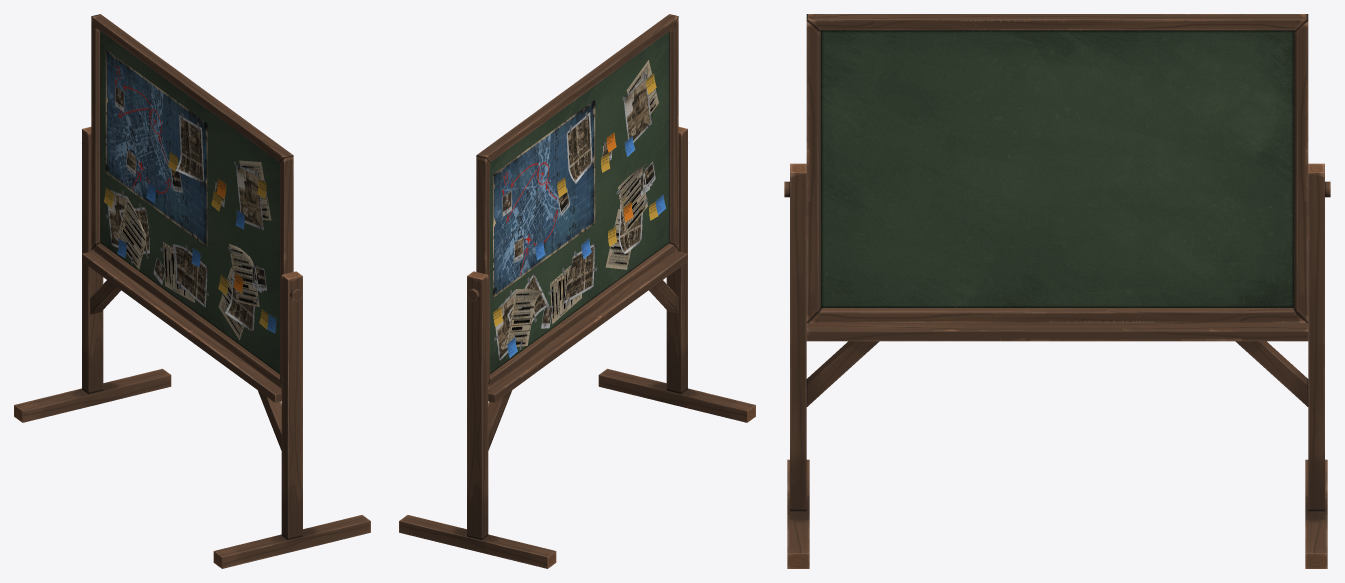
Rendered from planningBoard01.FBX.
3 views of the same model, side by side, from view 1: azimuth 30°, elevation 25°; view 2: azimuth 150°, elevation 25°; view 3: azimuth 270°, elevation 25° (orthographic). The views are drawn at different scales.
Parts seen in each view (by area): view 1: planningBoard01_board, planningBoard01; view 2: planningBoard01_board, planningBoard01; view 3: planningBoard01_board, planningBoard01.
Part boxes in pixels (box(x1,y1,x2,y2)): planningBoard01_board: box(91, 14, 302, 388); planningBoard01: box(14, 127, 370, 568); planningBoard01_board: box(467, 14, 678, 388); planningBoard01: box(399, 127, 755, 568); planningBoard01_board: box(784, 14, 1330, 322); planningBoard01: box(787, 163, 1327, 568).
Size of the model in its own units: 80 by 200 by 196.
